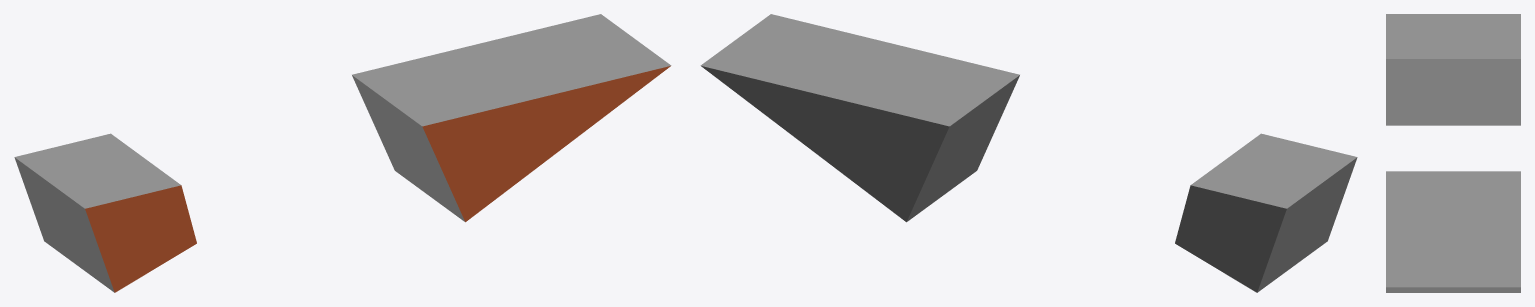
The model's file is construction_6350_assumed_A_Casa_h6m.obj.
3 renders of one model, left to right at view 1: azimuth 30°, elevation 25°; view 2: azimuth 150°, elevation 25°; view 3: azimuth 270°, elevation 25°, orthographic. The views are drawn at different scales.
Visible parts, largest first — view 1: construction_6350_assumed_A_Casa; view 2: construction_6350_assumed_A_Casa; view 3: construction_6350_assumed_A_Casa.
Boxes of the visible parts, x1=… form: construction_6350_assumed_A_Casa: x1=14, y1=14, x2=671, y2=292; construction_6350_assumed_A_Casa: x1=700, y1=14, x2=1357, y2=292; construction_6350_assumed_A_Casa: x1=1386, y1=14, x2=1520, y2=292.
Size of the model in its own units: 28.77 by 4.99 by 6.
